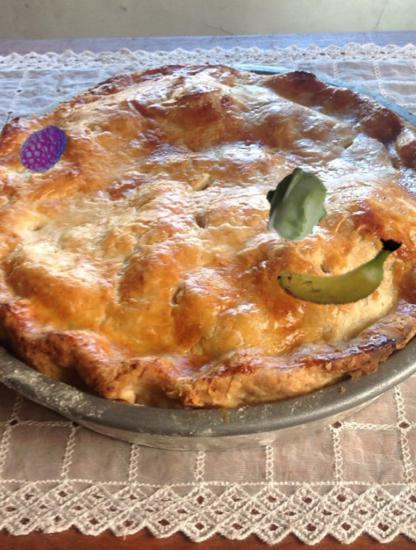Banana: (282, 210, 397, 325)
Kohlrabi: (259, 168, 335, 244)
Raspberry: (16, 121, 70, 175)
